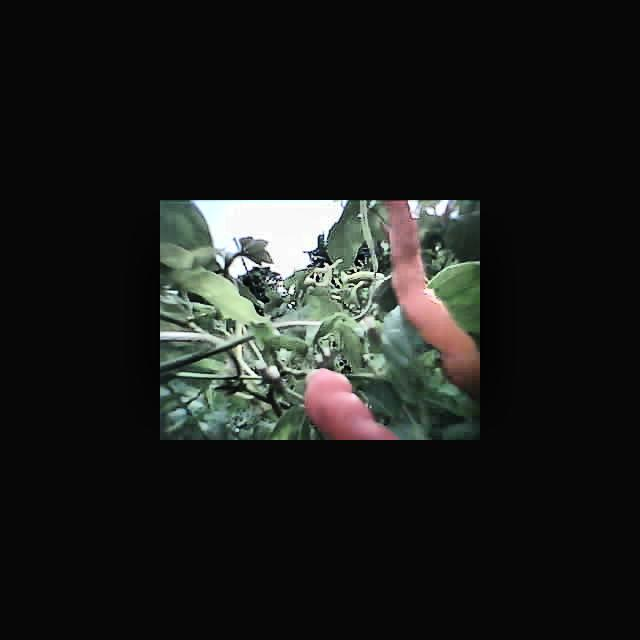Cabai: (385, 200, 480, 376), (284, 362, 387, 440)
